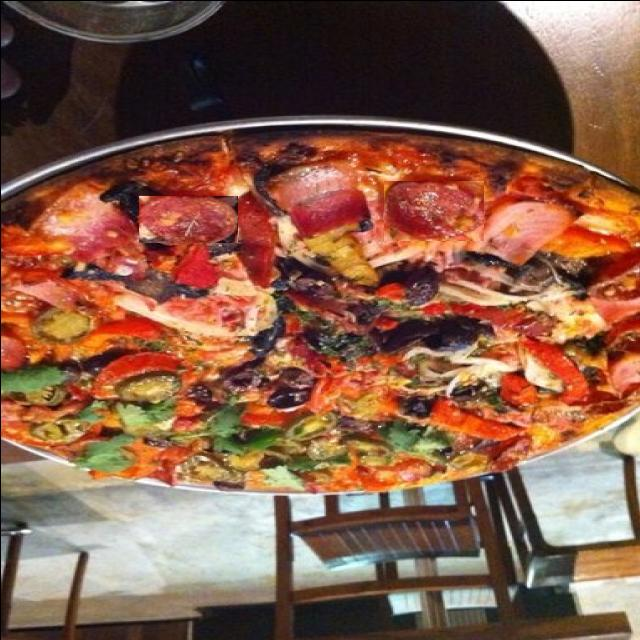pepperoni: (382, 180, 482, 240), (138, 195, 237, 242)
pizza: (0, 123, 640, 495)
